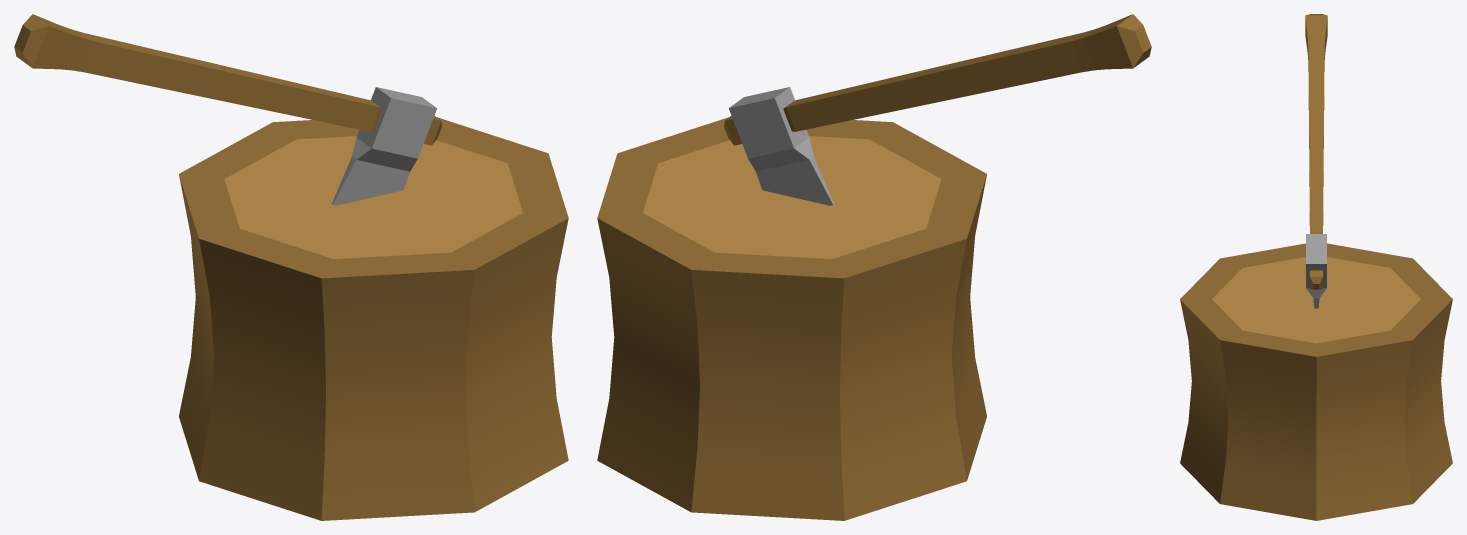
File: Balta.fbx
The picture shows the model from 3 angles, left to right: view 1: azimuth 30°, elevation 25°; view 2: azimuth 150°, elevation 25°; view 3: azimuth 270°, elevation 25°; orthographic projection. The views are drawn at different scales.
Parts seen in each view (by area): view 1: Circle.002; view 2: Circle.002; view 3: Circle.002.
Part boxes in pixels (<box>): Circle.002: <box>14,14,568,520</box>; Circle.002: <box>597,14,1151,520</box>; Circle.002: <box>1180,14,1452,520</box>.
Bounding box in the file's own units: 121 × 109 × 80.03.
